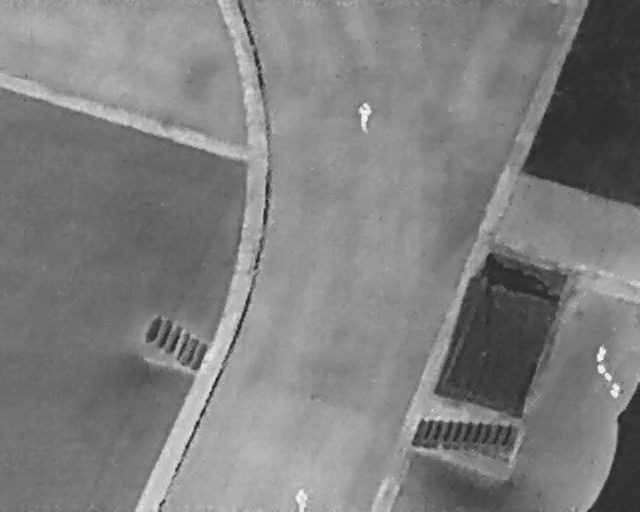Person: (356, 97, 374, 136), (293, 486, 309, 511)
